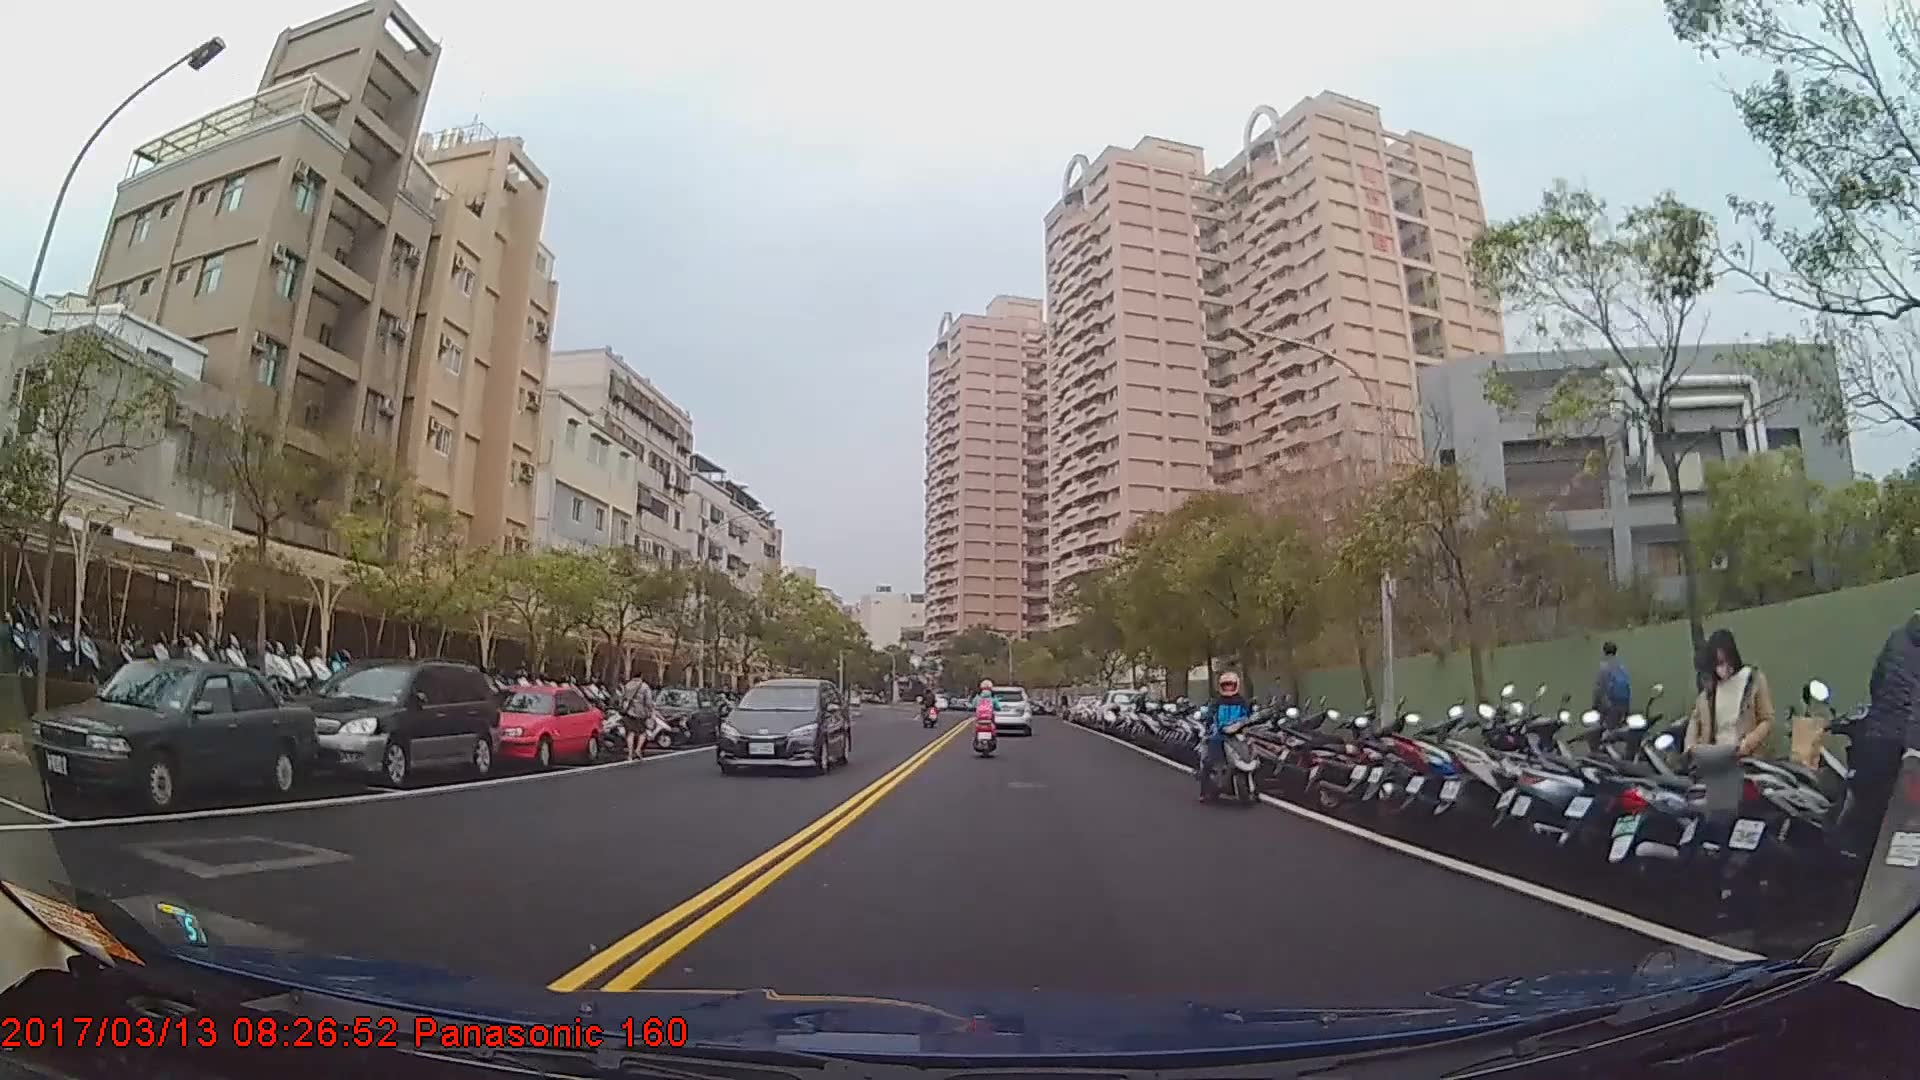pedestrian: (1682, 628, 1779, 901), (1589, 634, 1635, 784), (608, 665, 663, 775)
rider: (1196, 673, 1266, 810), (968, 680, 1001, 755), (920, 690, 940, 727)
vehicle: (22, 658, 312, 807), (276, 659, 501, 786), (714, 676, 849, 776), (476, 687, 603, 770), (644, 685, 720, 745), (979, 685, 1031, 738), (1092, 687, 1150, 733)
